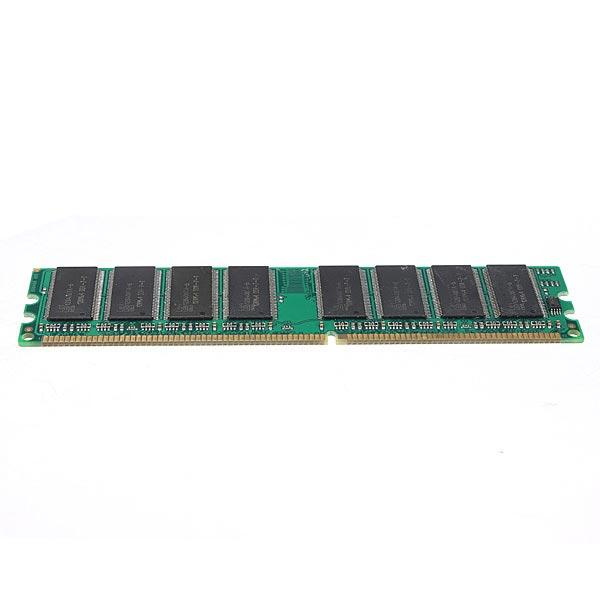Desktop RAM: (18, 246, 588, 371)
